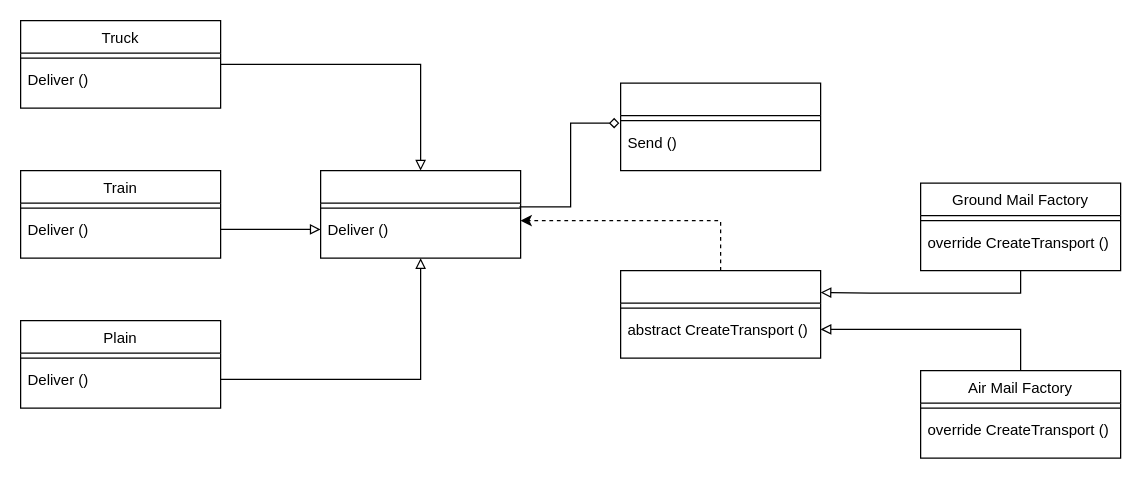
This 1141x479 diagram has some shape labels left out. Here are the shapes that lost their labels. From the top down, the box of each, then its label:
(619, 82, 821, 171): Mail
(319, 169, 521, 258): Transport
(619, 269, 821, 358): Mail Factory
